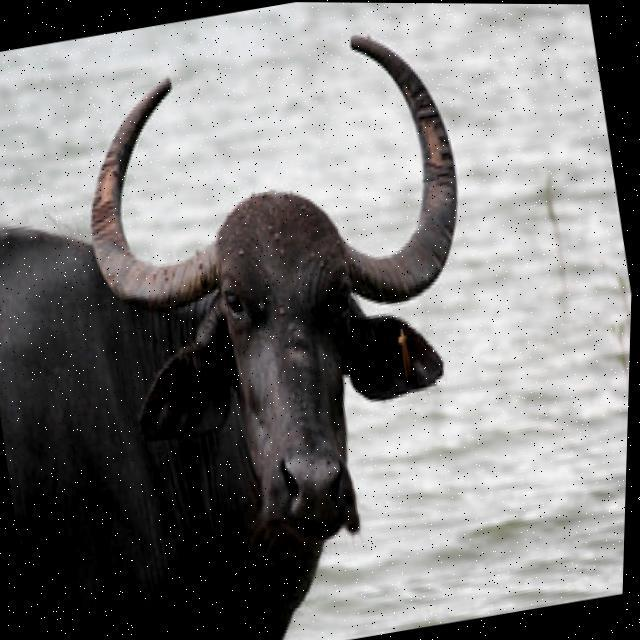Buffalo: (0, 12, 539, 640)
